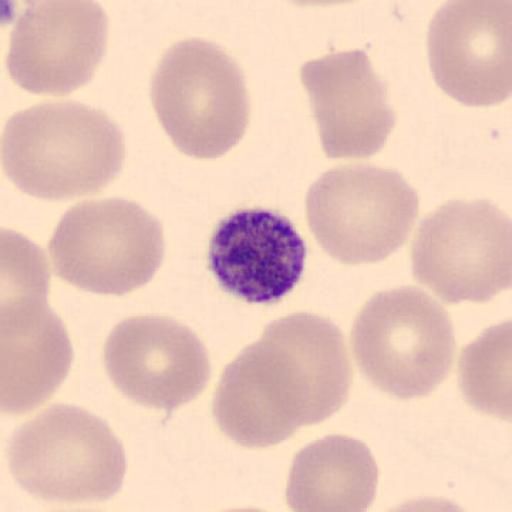Platelet: (204, 203, 312, 308)
RBC: (1, 97, 128, 203), (148, 34, 252, 163), (4, 402, 130, 508), (303, 159, 421, 268), (348, 283, 456, 402), (47, 194, 168, 298), (256, 308, 354, 428), (409, 193, 512, 305), (299, 47, 398, 163), (100, 312, 213, 413), (210, 340, 312, 450), (6, 1, 110, 98), (425, 0, 512, 109), (0, 224, 55, 393), (2, 295, 75, 416), (283, 431, 380, 512), (2, 226, 52, 350), (456, 316, 512, 422), (360, 492, 478, 512), (196, 503, 294, 512), (267, 0, 371, 8)
